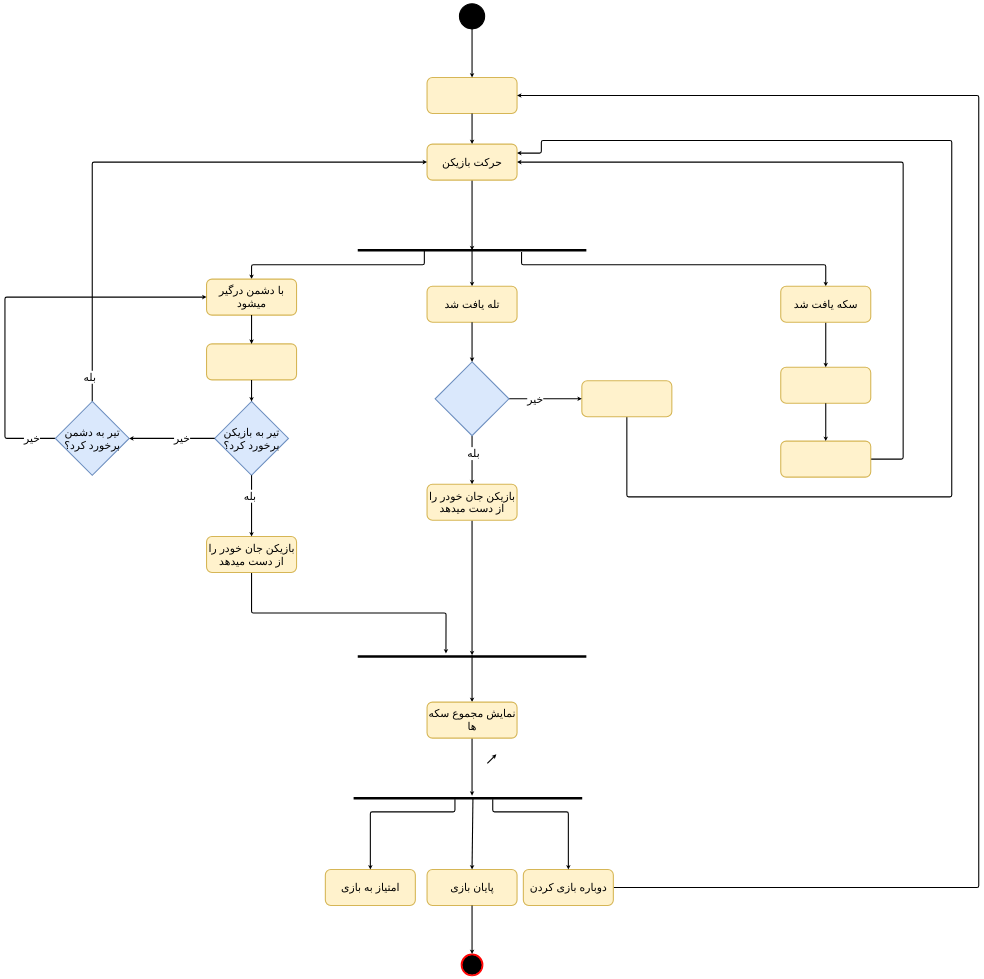
This 984x979 diagram has some shape labels left out. Each missing label, with the box of its shape:
آیا بازیکن در تله افتاد؟: (435, 361, 509, 436)
استفاده از اسلحه: (206, 343, 297, 380)
به سکه برخورد کرد: (780, 367, 871, 404)
به سکه ها اضافه شد: (780, 440, 871, 478)
تله خنثی میشود: (581, 380, 672, 417)
شروع بازی: (426, 77, 518, 114)
